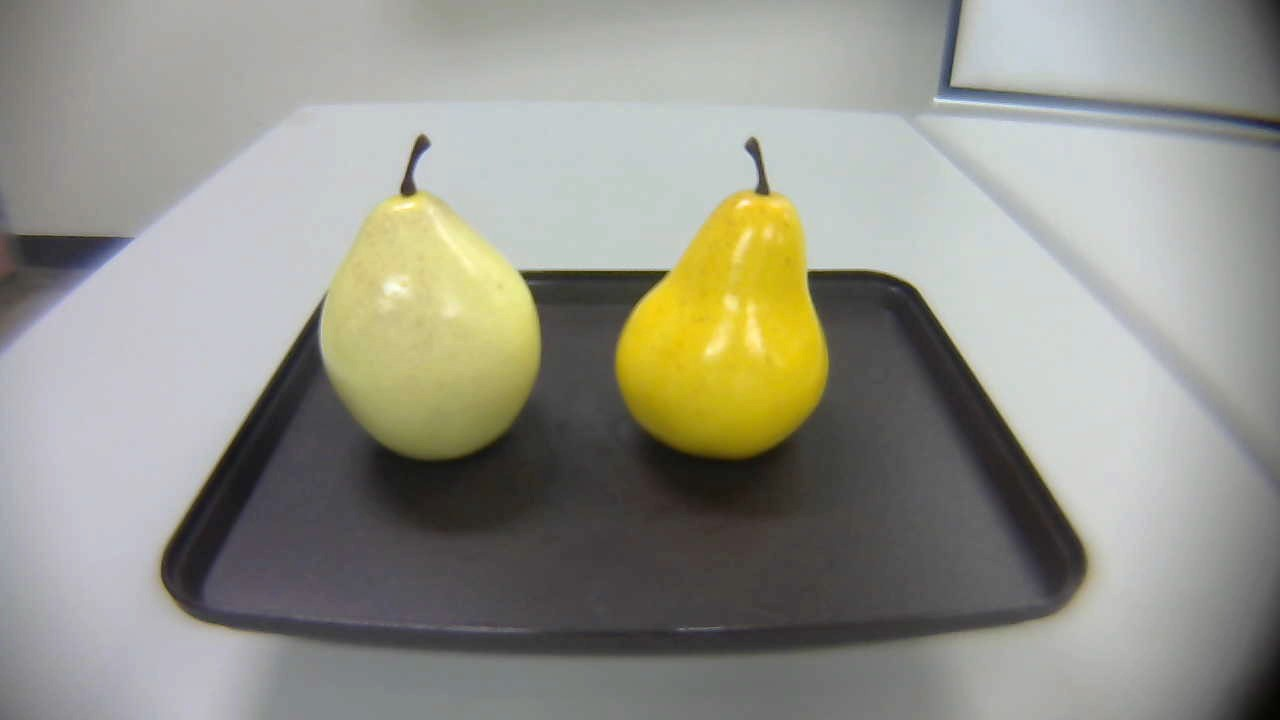western pear: (310, 132, 547, 458)
yellow pear: (610, 132, 847, 459)
